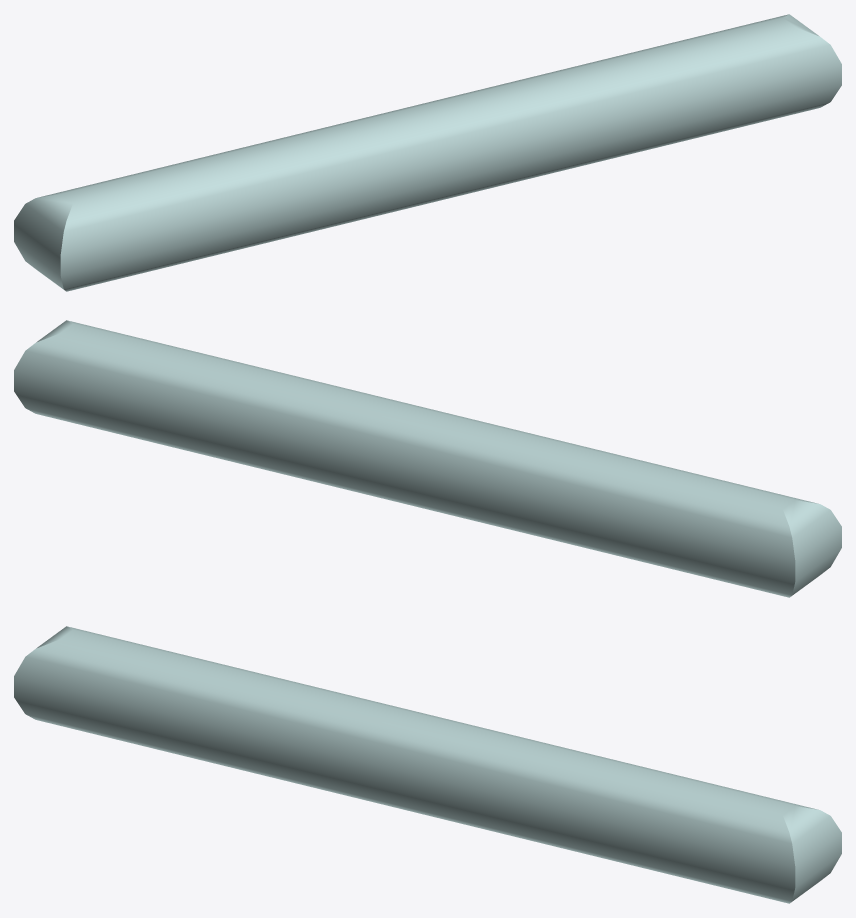
File: BarColORR.glb
3 views of the same model, one above another, from view 1: azimuth 30°, elevation 25°; view 2: azimuth 150°, elevation 25°; view 3: azimuth 330°, elevation 25° (orthographic).
Size of the model in its own units: 23.87 by 2.47 by 2.47.
